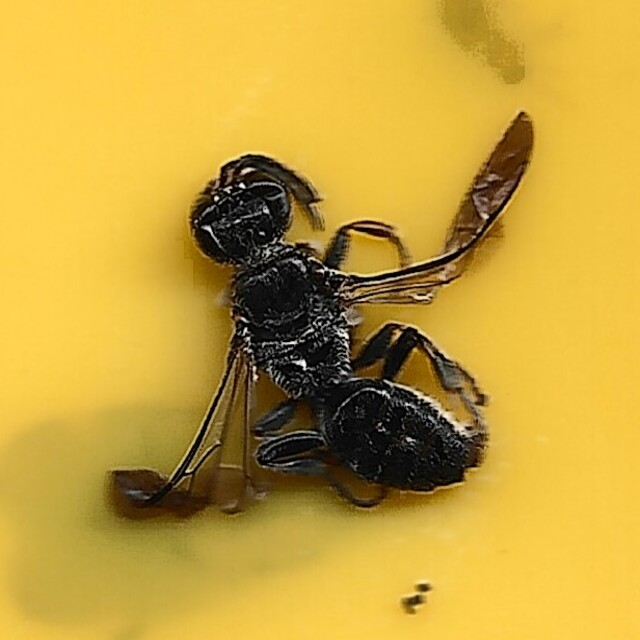Hymenoptera: (104, 108, 536, 532)
